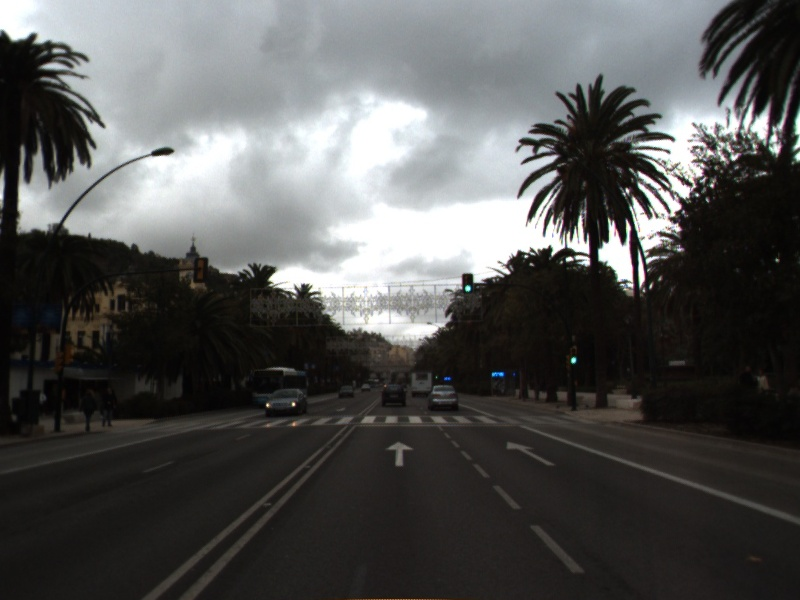STRAIGHT: (504, 439, 557, 468), (383, 440, 417, 468)
